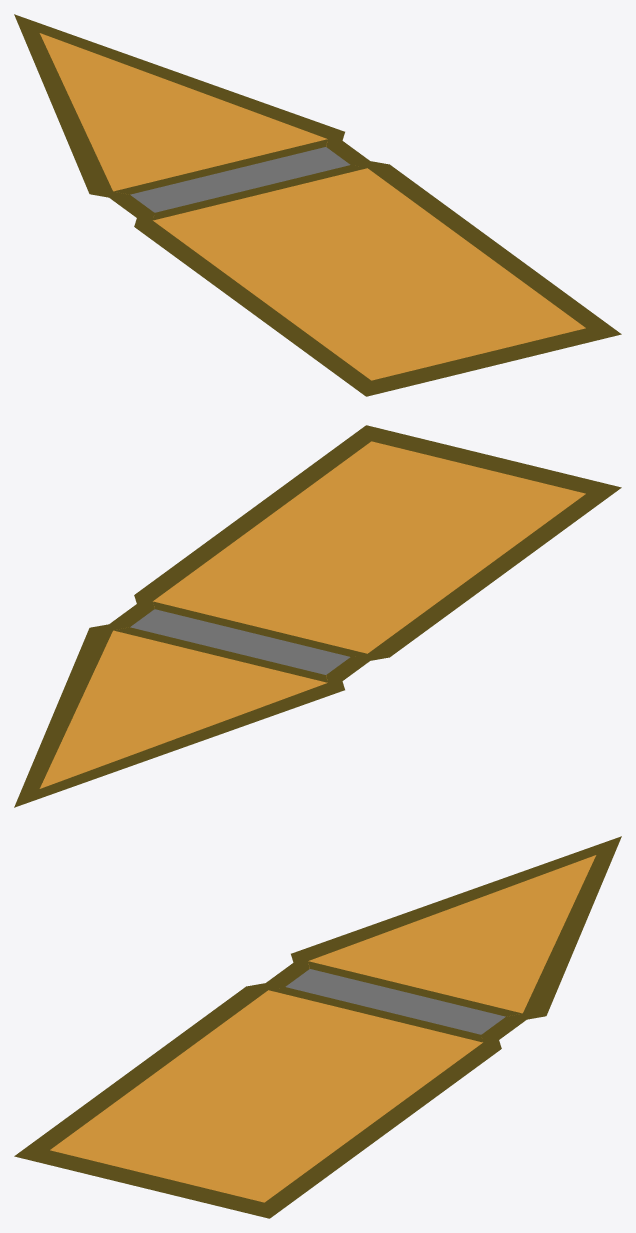
File: tankShell.fbx
3 views of the same model, one above another, from view 1: azimuth 30°, elevation 25°; view 2: azimuth 150°, elevation 25°; view 3: azimuth 330°, elevation 25° (orthographic).
Visible parts, largest first — view 1: Plane; view 2: Plane; view 3: Plane.
Part boxes in pixels (left/top/right/bottom): Plane: left=14, top=14, right=621, bottom=396; Plane: left=14, top=425, right=621, bottom=807; Plane: left=14, top=836, right=621, bottom=1218.
Size of the model in its own units: 76.63 by 4.06e-05 by 249.
